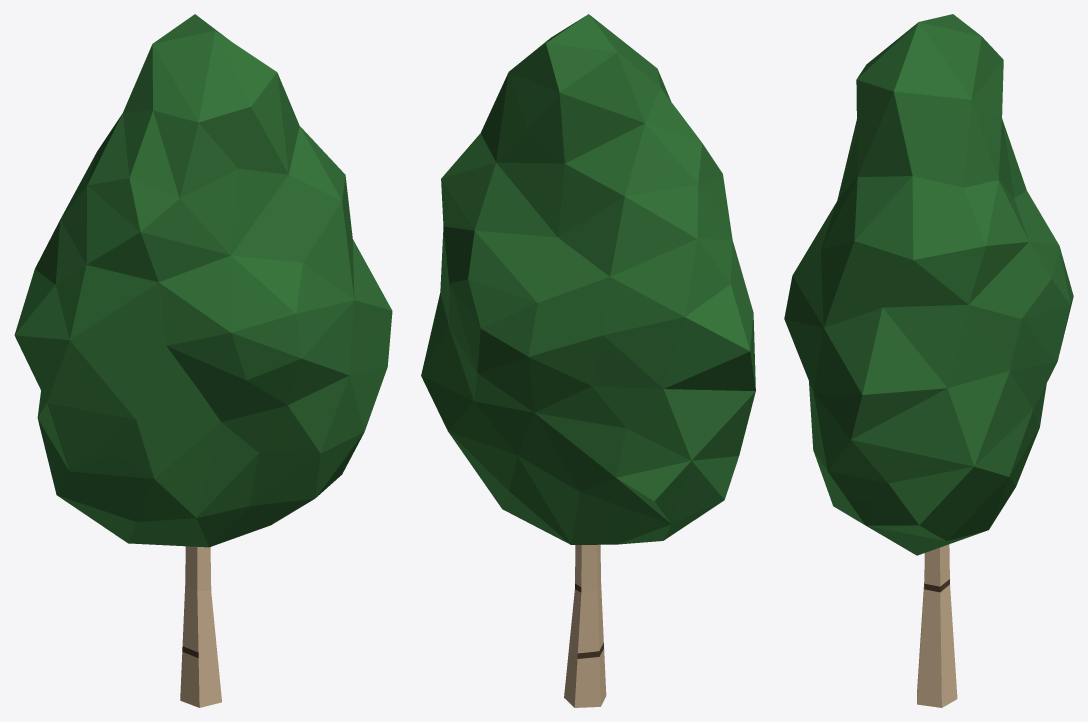
File: nature-tree-birch.glb
The picture shows the model from 3 angles, left to right: view 1: azimuth 30°, elevation 25°; view 2: azimuth 150°, elevation 25°; view 3: azimuth 270°, elevation 25°; orthographic projection.
Parts seen in each view (by area): view 1: tree-birch; view 2: tree-birch; view 3: tree-birch.
Part boxes in pixels (bbox=[...]): tree-birch: bbox=[14, 14, 392, 707]; tree-birch: bbox=[421, 14, 755, 707]; tree-birch: bbox=[784, 14, 1073, 707].
Bounding box in the file's own units: 3.48 × 6.77 × 2.61.
